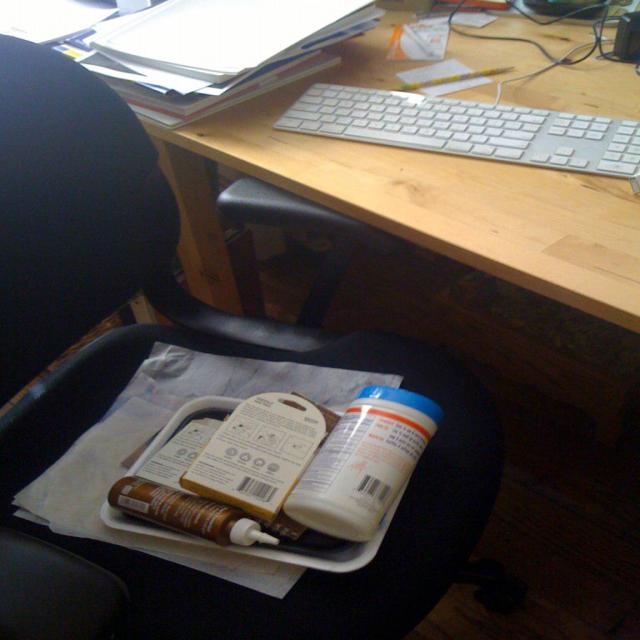chair: (0, 23, 549, 640), (1, 528, 133, 640)
desk: (0, 0, 639, 326)
keyboard: (272, 82, 640, 183)
